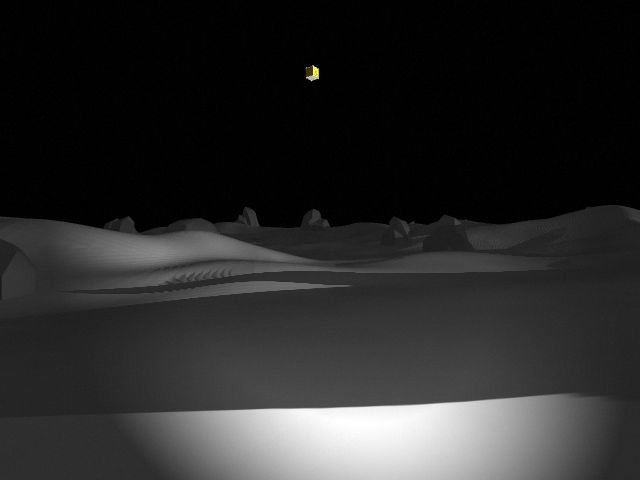cubesat: (296, 63, 321, 81)
